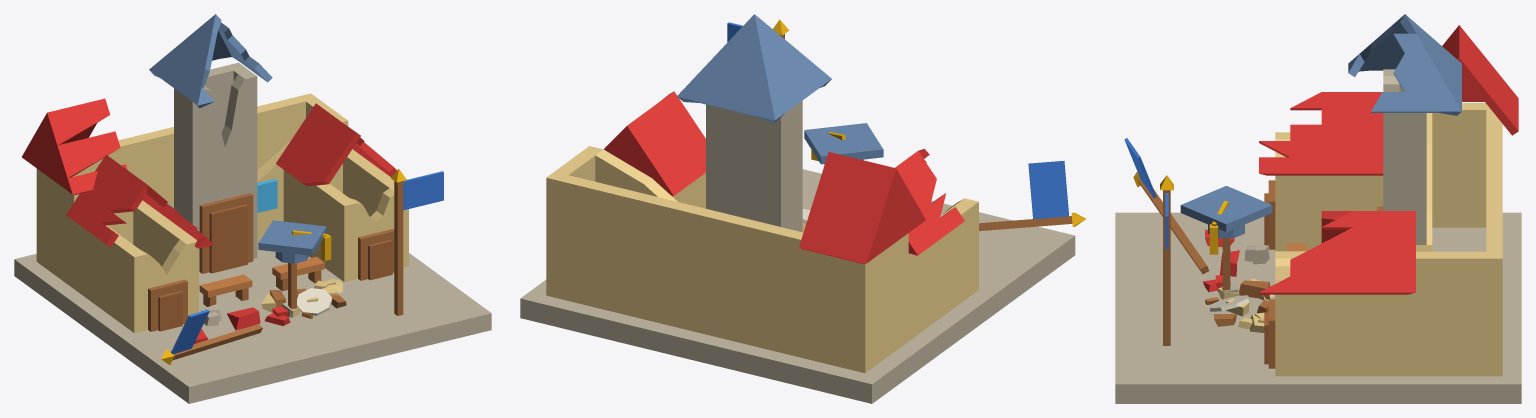
File: university_t2_v1_dmg1.glb
The picture shows the model from 3 angles, left to right: view 1: azimuth 30°, elevation 25°; view 2: azimuth 150°, elevation 25°; view 3: azimuth 270°, elevation 25°; orthographic projection. The views are drawn at different scales.
Parts seen in each view (by area): view 1: university_t2_v1_dmg1; view 2: university_t2_v1_dmg1; view 3: university_t2_v1_dmg1.
Boxes of the visible parts, <box> form: university_t2_v1_dmg1: <box>14,14,491,403</box>; university_t2_v1_dmg1: <box>520,14,1086,403</box>; university_t2_v1_dmg1: <box>1115,14,1521,403</box>.
Size of the model in its own units: 0.7969 by 0.62 by 0.75.
Materials: 1 (1 with a texture image).
